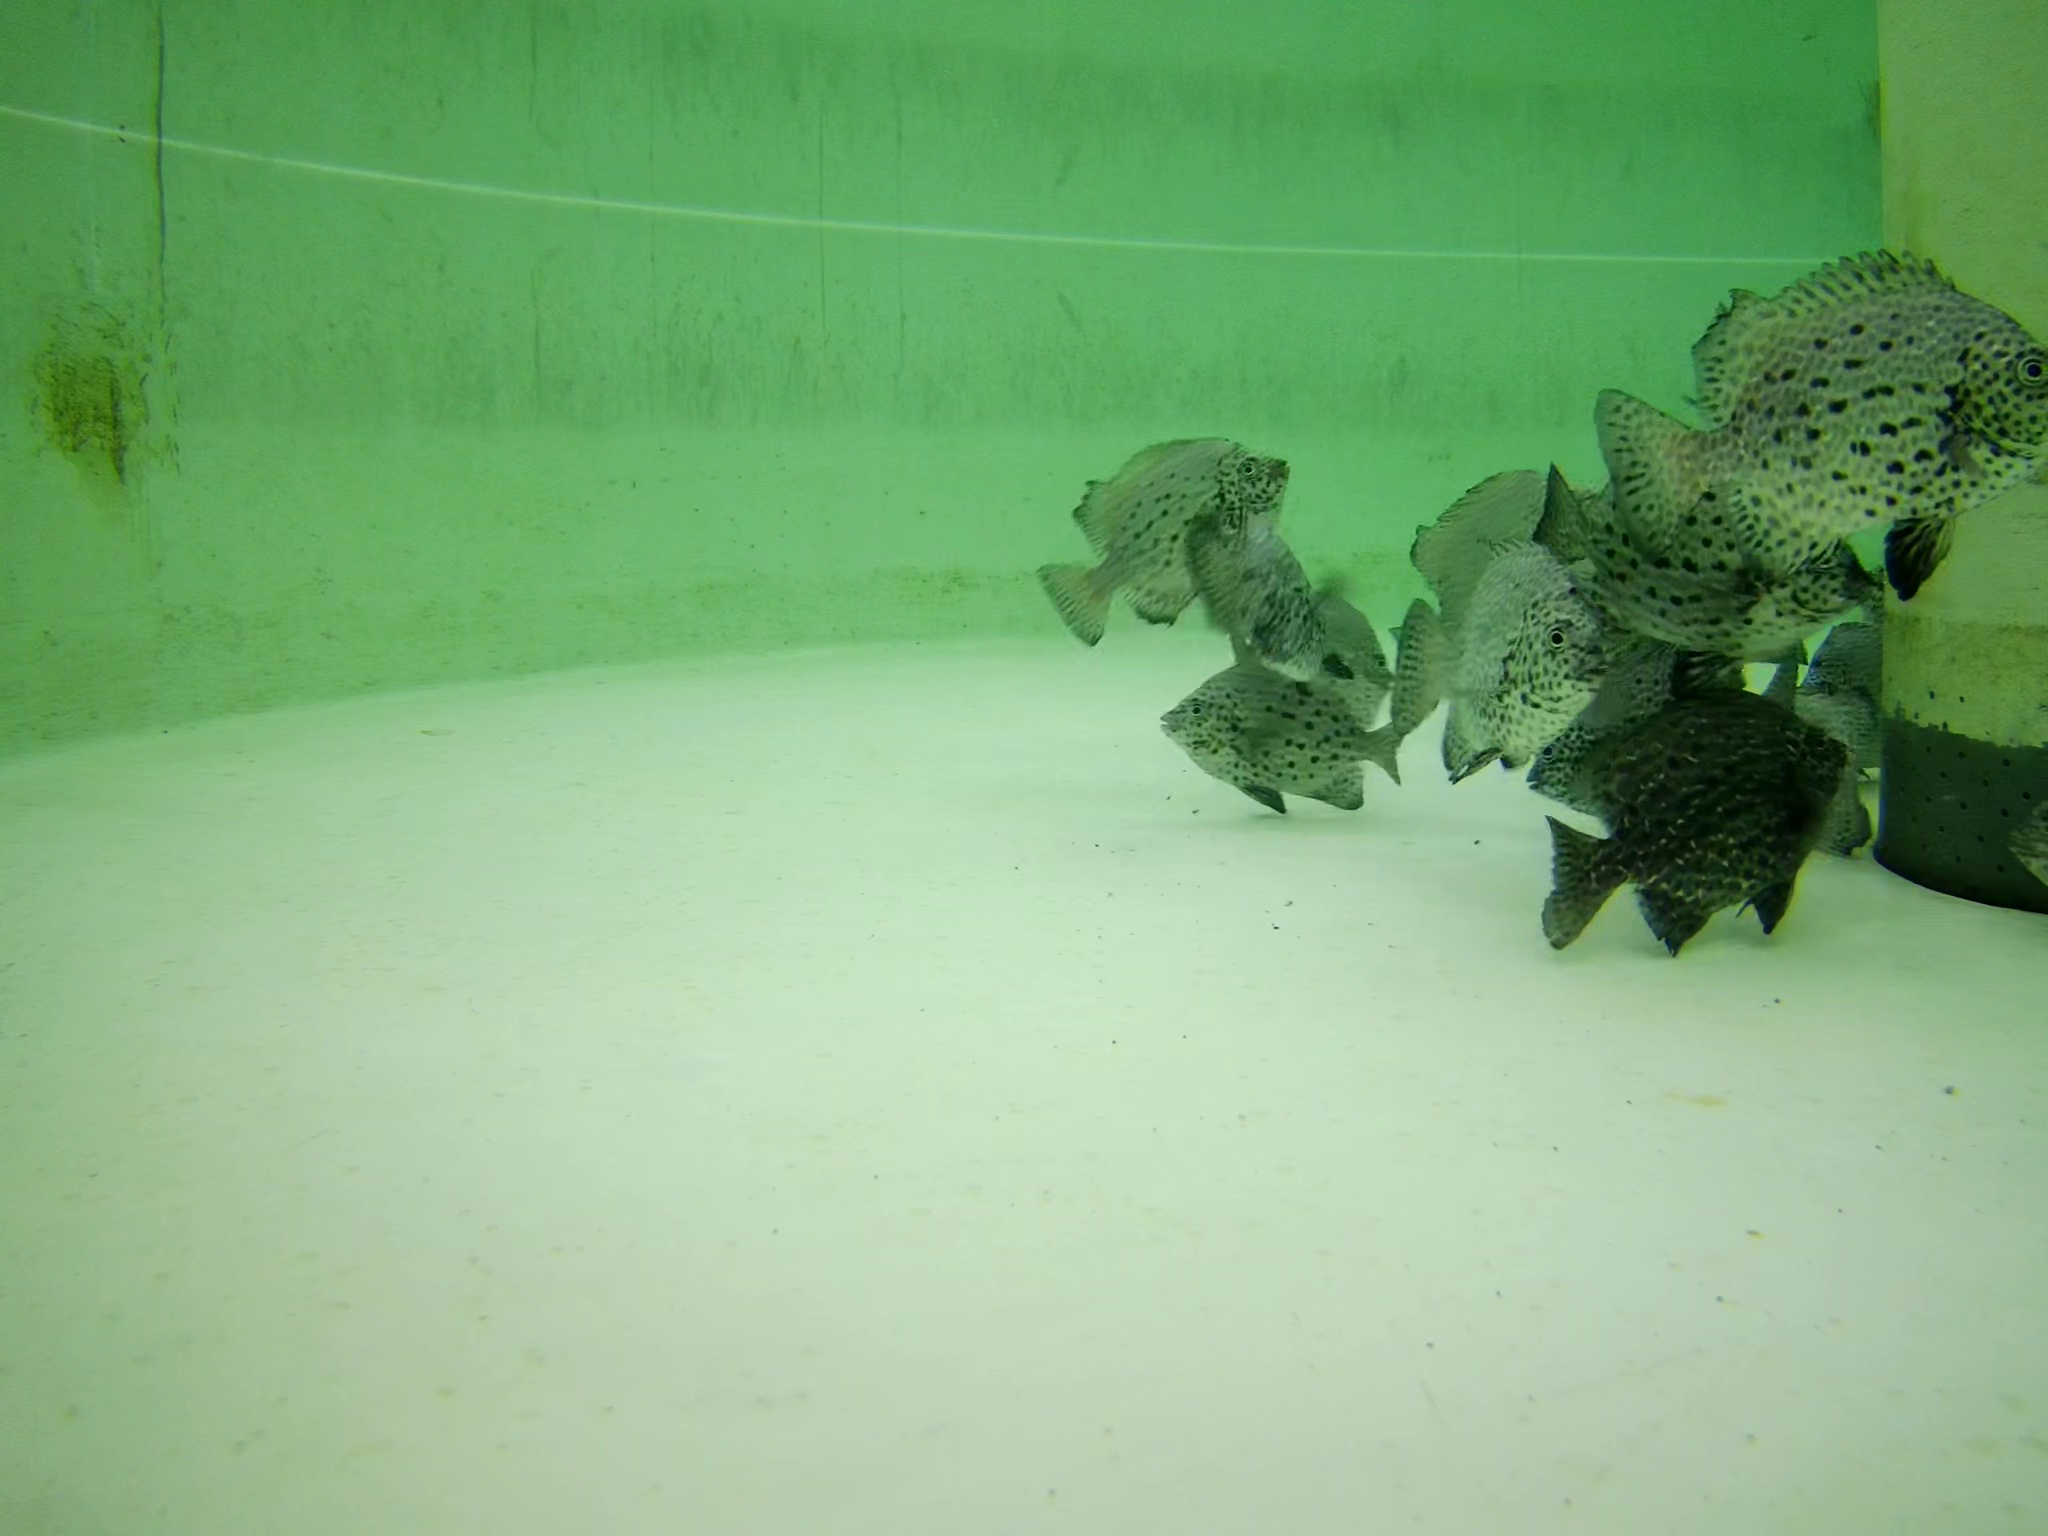fish: (1584, 258, 2048, 573), (1527, 699, 1845, 931), (1545, 460, 1885, 642), (1367, 536, 1609, 784), (1042, 437, 1301, 650), (1171, 657, 1419, 831), (1413, 470, 1577, 673), (1203, 508, 1337, 697), (1766, 662, 1884, 841), (1290, 570, 1388, 713), (1804, 611, 1888, 762)
